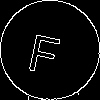F: (25, 25, 65, 76)
